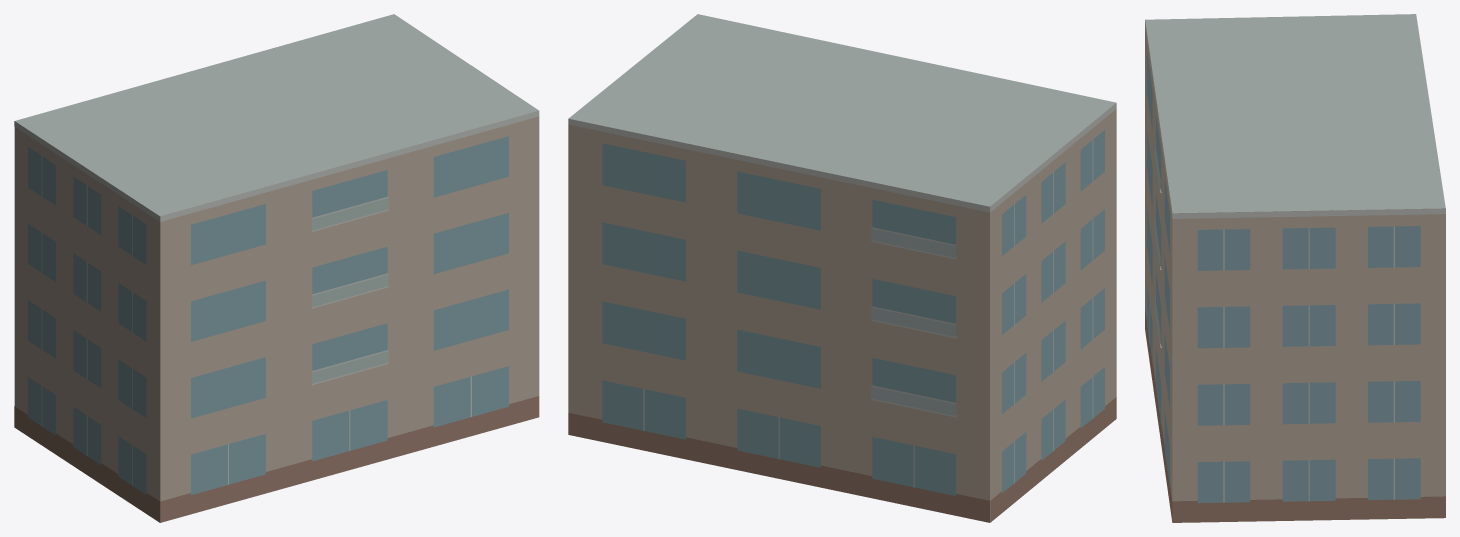
The model's file is survey-upis-32933368.glb.
The picture shows the model from 3 angles, left to right: view 1: azimuth 30°, elevation 25°; view 2: azimuth 150°, elevation 25°; view 3: azimuth 270°, elevation 25°; orthographic projection. The views are drawn at different scales.
Parts seen in each view (by area): view 1: survey-upis-32933368.tmp; view 2: survey-upis-32933368.tmp; view 3: survey-upis-32933368.tmp.
Part boxes in pixels (x1,y1,x2,y2): survey-upis-32933368.tmp: (14, 14, 539, 522); survey-upis-32933368.tmp: (568, 14, 1116, 522); survey-upis-32933368.tmp: (1145, 14, 1445, 522).
Bounding box in the file's own units: 18.22 × 13.2 × 11.63.
